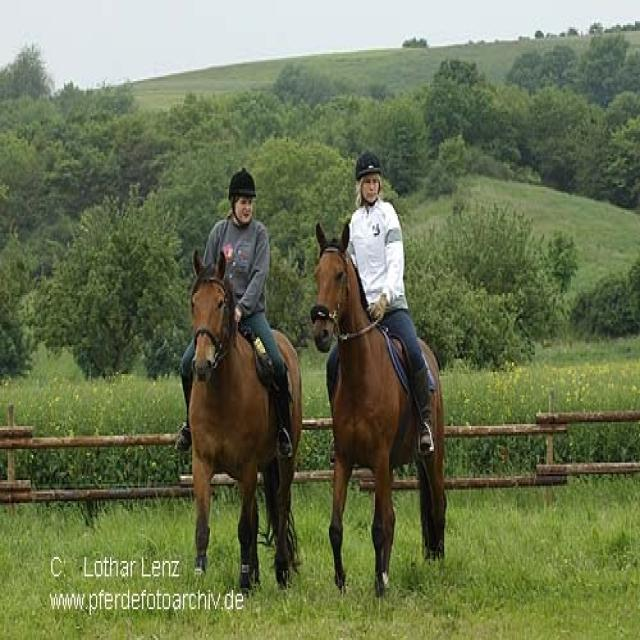horse: (308, 224, 449, 592), (182, 247, 303, 588)
